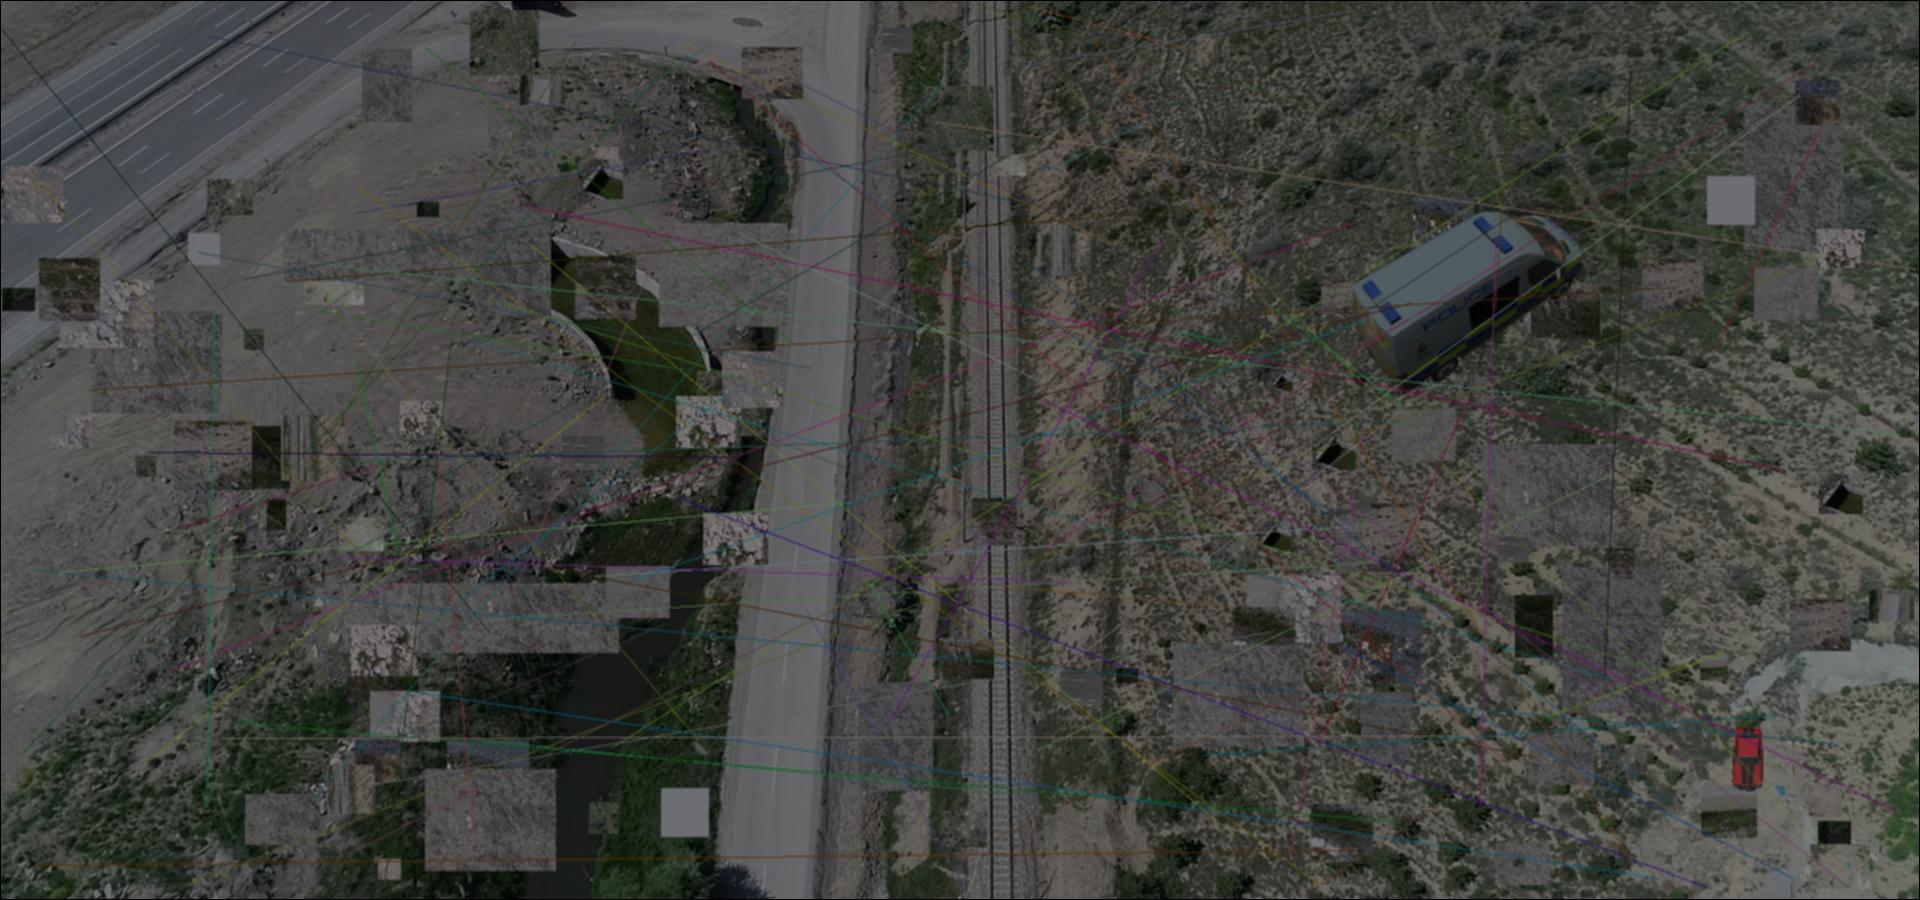arac: (1353, 203, 1584, 396), (1728, 725, 1767, 791)
